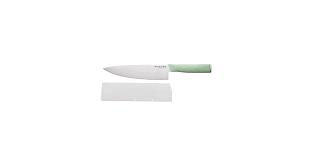Knife: (102, 63, 211, 80)
